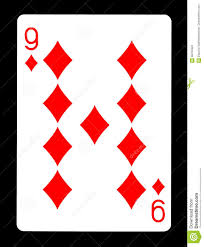nine of diamonds: (16, 14, 171, 230)
